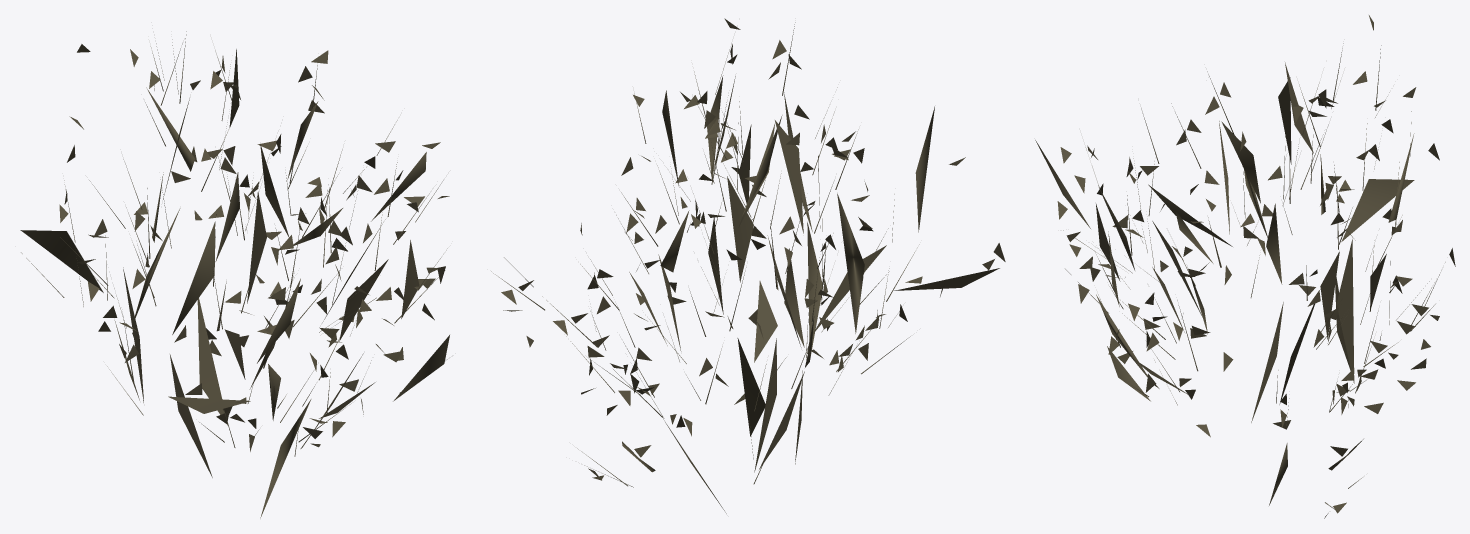
The model's file is desert-tree-lod1.glb.
3 views of the same model, side by side, from view 1: azimuth 30°, elevation 25°; view 2: azimuth 150°, elevation 25°; view 3: azimuth 270°, elevation 25° (orthographic). The views are drawn at different scales.
Visible parts, largest first — view 1: desert-tree; view 2: desert-tree; view 3: desert-tree.
Part boxes in pixels (x1=…): desert-tree: x1=20, y1=31, x2=449, y2=518; desert-tree: x1=491, y1=18, x2=1005, y2=513; desert-tree: x1=1035, y1=15, x2=1455, y2=518.
Bounding box in the file's own units: 2.49 × 2.95 × 2.48.
